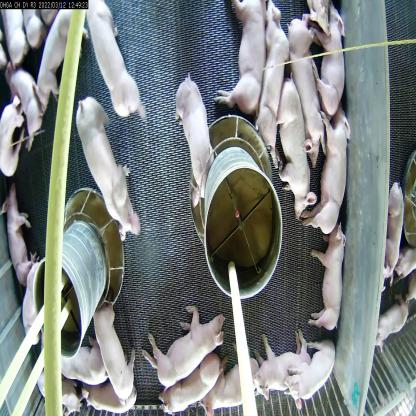Pig: (76, 100, 138, 244), (81, 0, 146, 121), (148, 303, 228, 383), (173, 76, 221, 207), (288, 10, 328, 153), (220, 0, 265, 119), (276, 80, 314, 216), (255, 1, 285, 158), (0, 184, 39, 304), (38, 9, 80, 114), (314, 7, 352, 119), (319, 113, 353, 238), (286, 336, 342, 411), (158, 350, 221, 412), (90, 309, 134, 397), (311, 235, 349, 332), (23, 261, 57, 367), (50, 346, 112, 396), (4, 57, 42, 135), (254, 345, 309, 398), (207, 359, 260, 412), (0, 94, 21, 170), (82, 383, 131, 415), (0, 9, 25, 64)
